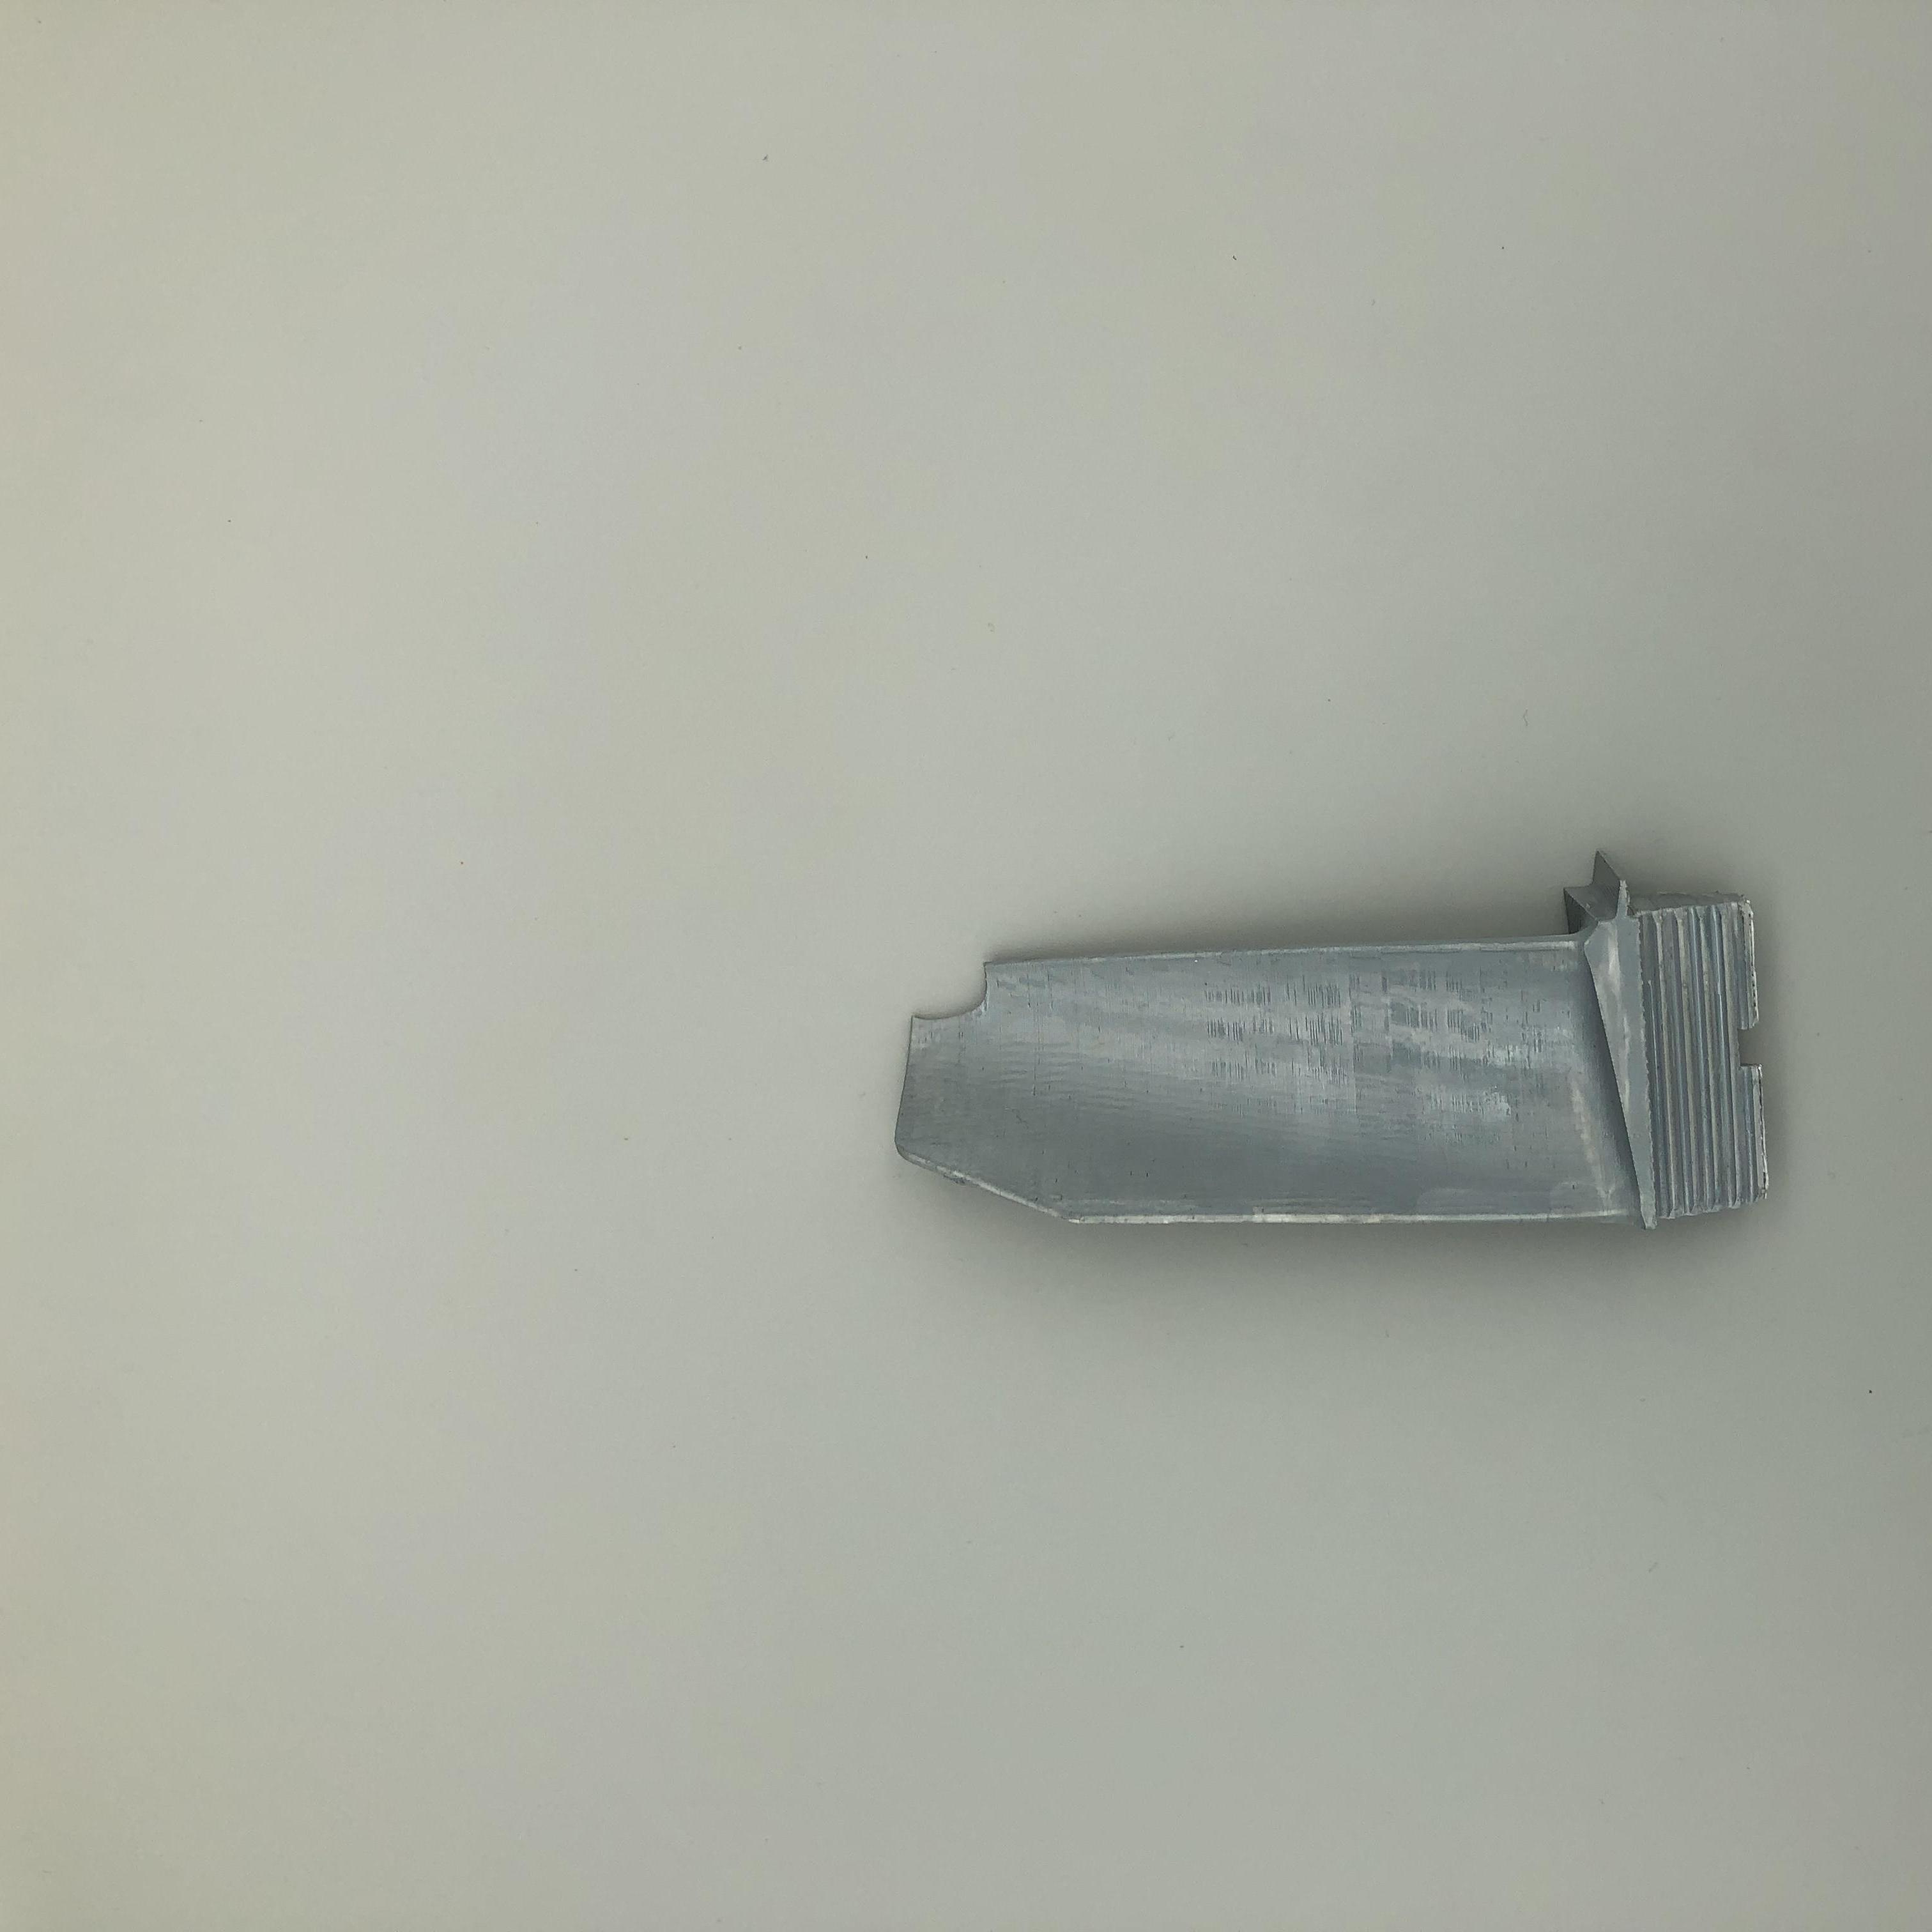fracture: (902, 957, 1033, 1058)
